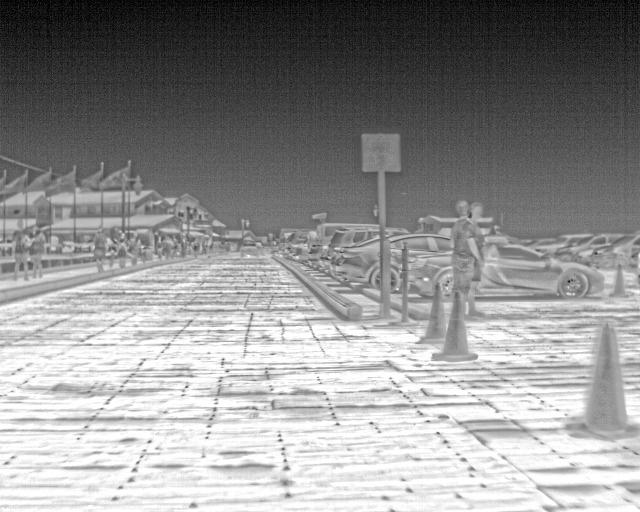bicycle: (479, 242, 607, 299), (390, 235, 448, 295), (309, 223, 380, 266), (321, 228, 382, 271), (588, 232, 638, 272), (410, 251, 450, 297), (341, 242, 379, 288), (563, 230, 621, 258), (539, 232, 589, 251), (290, 242, 308, 263), (240, 242, 258, 257)
empty: (448, 198, 484, 317), (9, 228, 31, 280), (30, 227, 46, 279), (92, 226, 109, 273), (114, 237, 131, 269), (472, 200, 486, 234), (128, 233, 142, 264), (107, 250, 119, 271)
